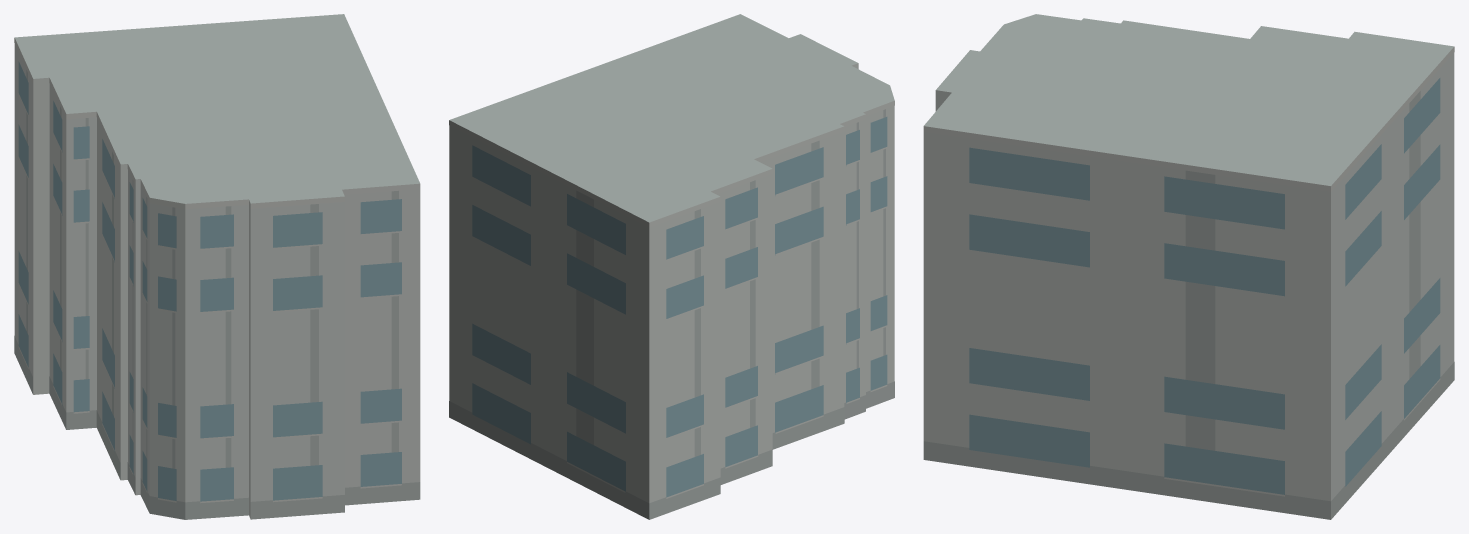
The model's file is survey-upis-32800117.glb.
3 views of the same model, side by side, from view 1: azimuth 30°, elevation 25°; view 2: azimuth 150°, elevation 25°; view 3: azimuth 270°, elevation 25° (orthographic). The views are drawn at different scales.
Visible parts, largest first — view 1: survey-upis-32800117.tmp; view 2: survey-upis-32800117.tmp; view 3: survey-upis-32800117.tmp.
Part boxes in pixels (x1,y1,x2,y2): survey-upis-32800117.tmp: [14, 14, 420, 519]; survey-upis-32800117.tmp: [449, 14, 894, 519]; survey-upis-32800117.tmp: [923, 14, 1454, 519].
Bounding box in the file's own units: 15.5 × 14 × 20.19.
